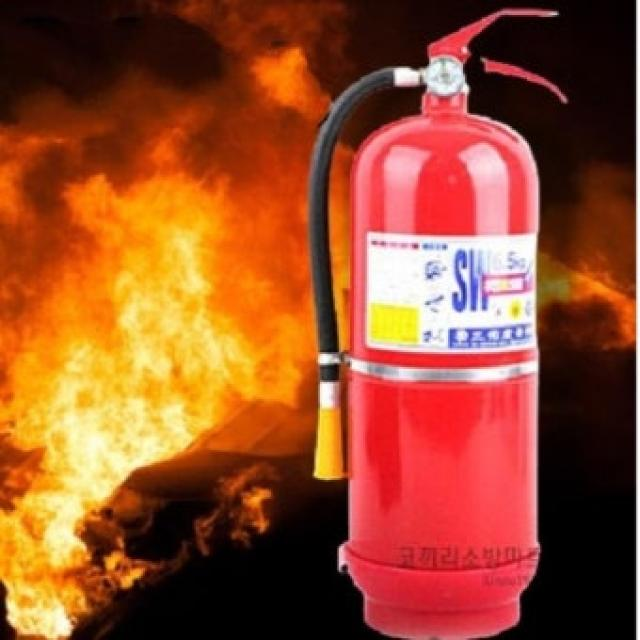pressure gauge: (424, 57, 466, 97)
